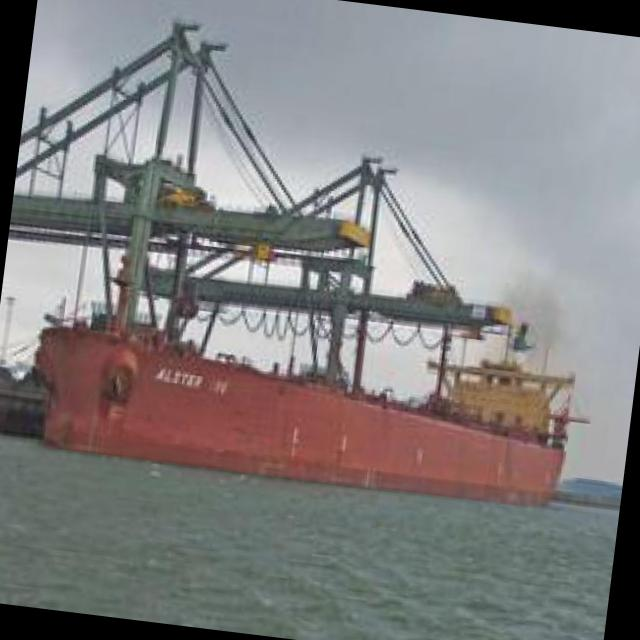boat: (25, 292, 593, 524)
